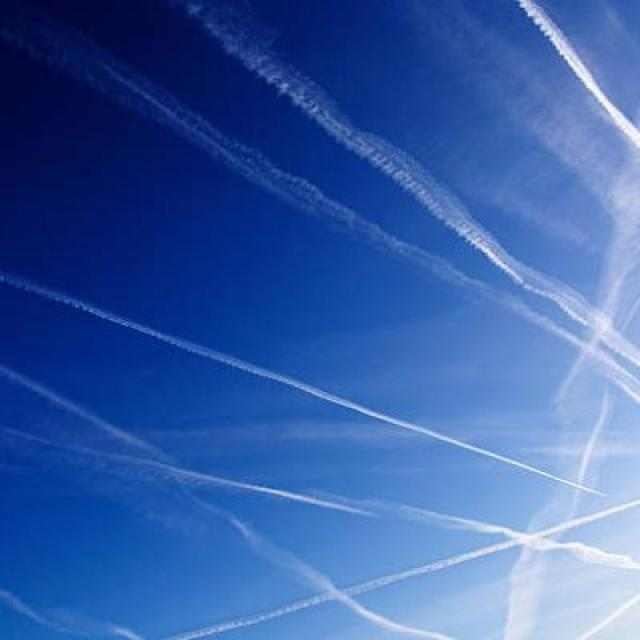Ct: (63, 1, 631, 620)
